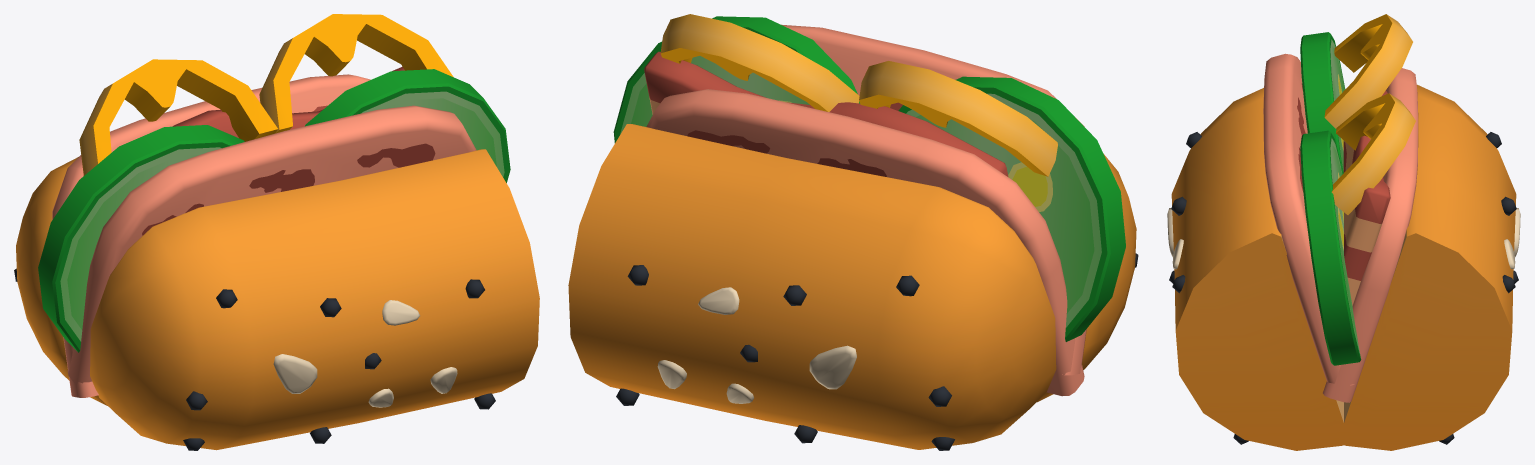
File: HotDog_bun_half_05.fbx
3 views of the same model, side by side, from view 1: azimuth 30°, elevation 25°; view 2: azimuth 150°, elevation 25°; view 3: azimuth 270°, elevation 25° (orthographic). The views are drawn at different scales.
Parts seen in each view (by area): view 1: HotDog_bun_half_05; view 2: HotDog_bun_half_05; view 3: HotDog_bun_half_05.
Boxes of the visible parts, x1=… form: HotDog_bun_half_05: x1=14, y1=14, x2=539, y2=450; HotDog_bun_half_05: x1=568, y1=14, x2=1138, y2=450; HotDog_bun_half_05: x1=1167, y1=14, x2=1520, y2=450.
Size of the model in its own units: 92.71 by 69.2 by 67.51.
